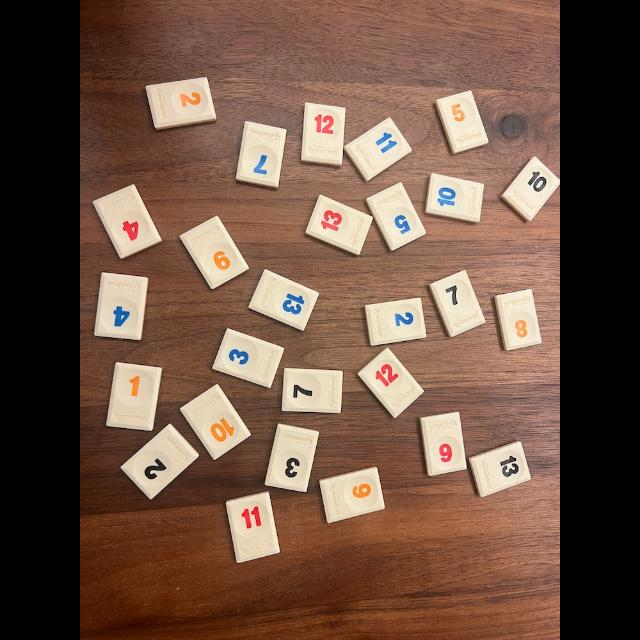black_10: (501, 156, 560, 221)
black_13: (469, 441, 531, 498)
black_2: (121, 424, 199, 499)
black_3: (265, 424, 319, 492)
black_7: (430, 270, 485, 336), (282, 369, 342, 412)
blue_10: (425, 174, 483, 222)
blue_11: (345, 118, 411, 181)
blue_13: (249, 270, 319, 330)
blue_2: (366, 298, 426, 345)
blue_3: (212, 329, 284, 388)
blue_4: (95, 272, 148, 340)
blue_5: (366, 182, 425, 250)
blue_7: (236, 121, 286, 188)
orange_1: (106, 362, 162, 431)
orange_10: (180, 384, 250, 459)
orange_2: (145, 78, 216, 130)
orange_5: (435, 91, 489, 154)
orange_8: (495, 290, 541, 350)
orange_9: (181, 216, 249, 289), (321, 468, 385, 524)
red_11: (226, 492, 280, 564)
red_12: (358, 349, 424, 418), (301, 102, 345, 166)
red_13: (305, 195, 372, 255)
red_4: (92, 185, 161, 259)
red_6: (421, 412, 466, 476)
